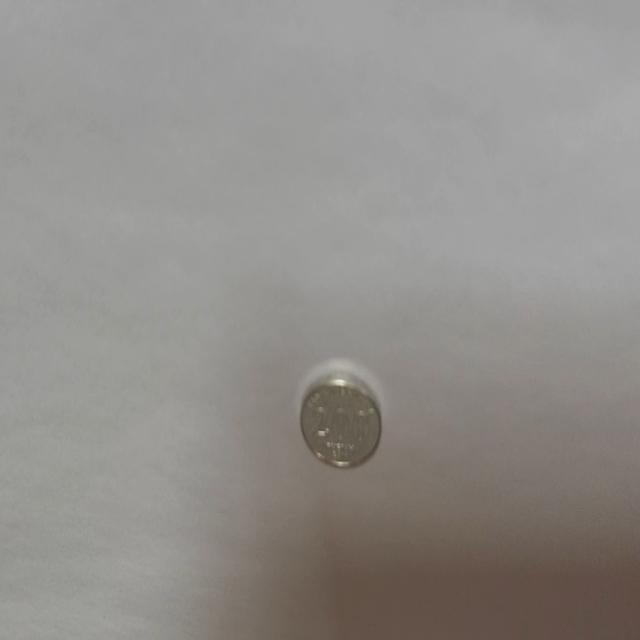dua ratus rupiah: (298, 368, 382, 470)
